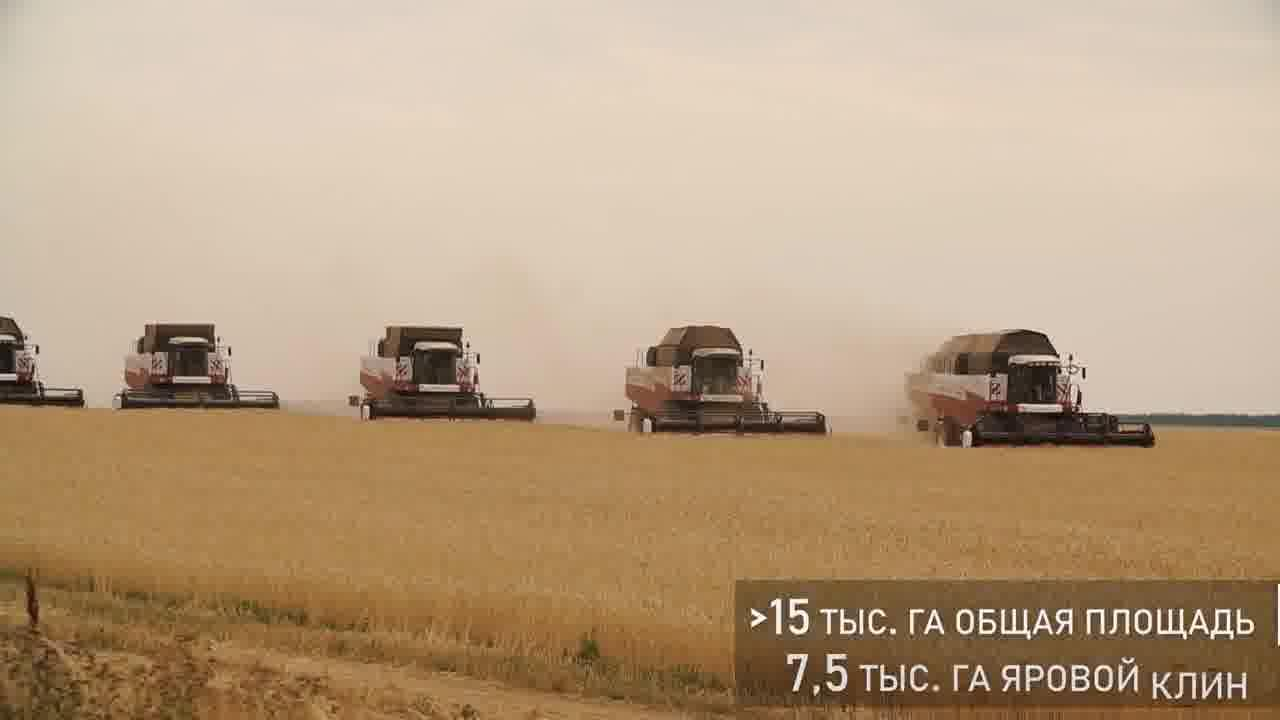combine harvester: (899, 324, 1169, 450), (608, 316, 834, 441), (341, 319, 546, 426), (100, 315, 285, 413), (0, 307, 89, 412)
